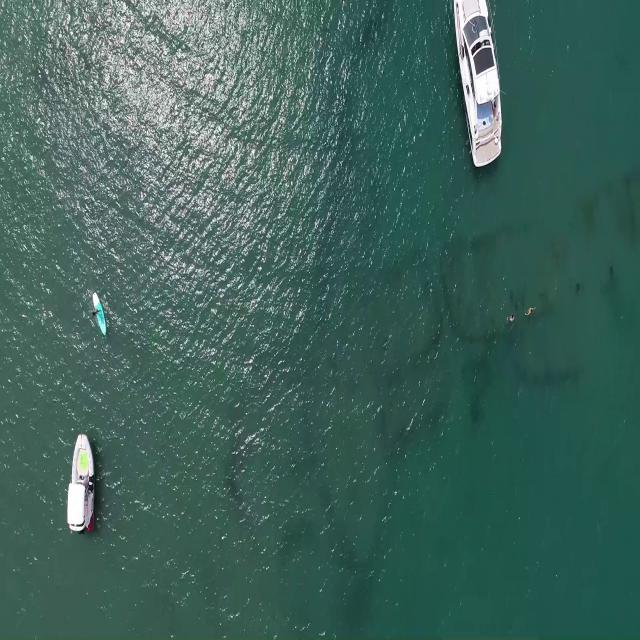boat: (452, 0, 505, 168), (65, 427, 97, 541)
person: (525, 304, 539, 318), (90, 304, 101, 319), (508, 314, 516, 324)
surfboard: (91, 290, 107, 341)
